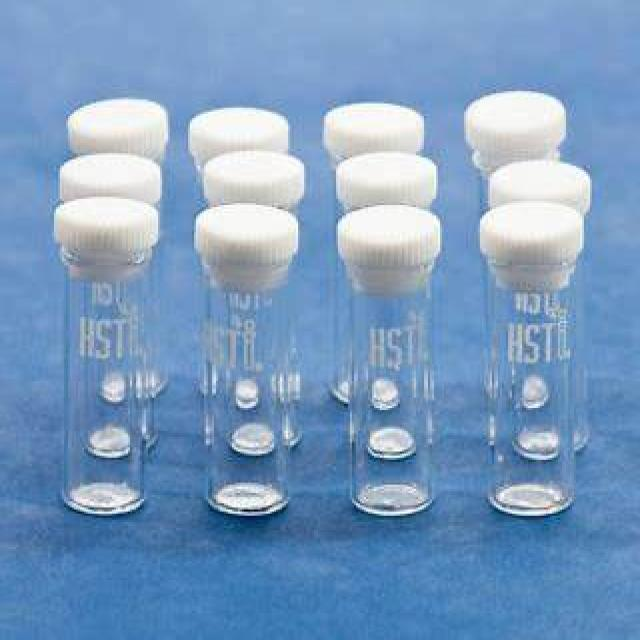vial: (64, 200, 170, 257), (328, 94, 434, 148), (475, 206, 573, 256), (54, 150, 160, 196), (69, 96, 169, 144), (348, 208, 448, 255), (204, 207, 294, 257), (336, 151, 438, 193), (470, 91, 560, 137), (207, 151, 303, 193), (186, 104, 282, 144), (492, 162, 578, 201)
